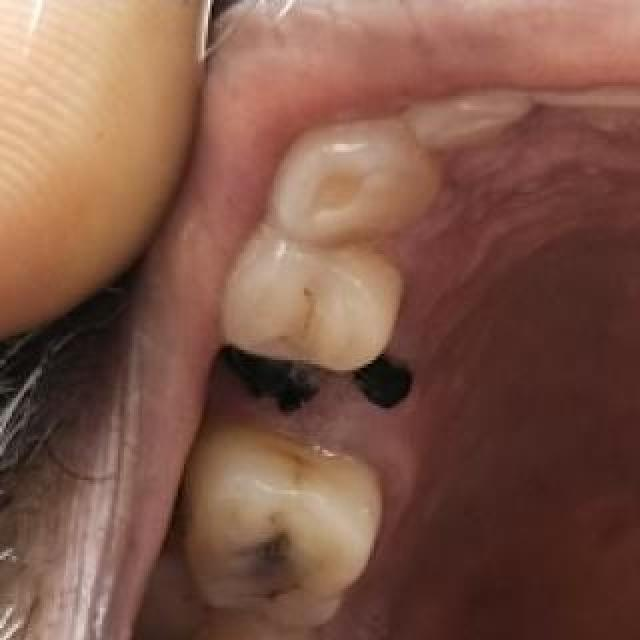cavities: (205, 495, 337, 635), (130, 632, 214, 640)
